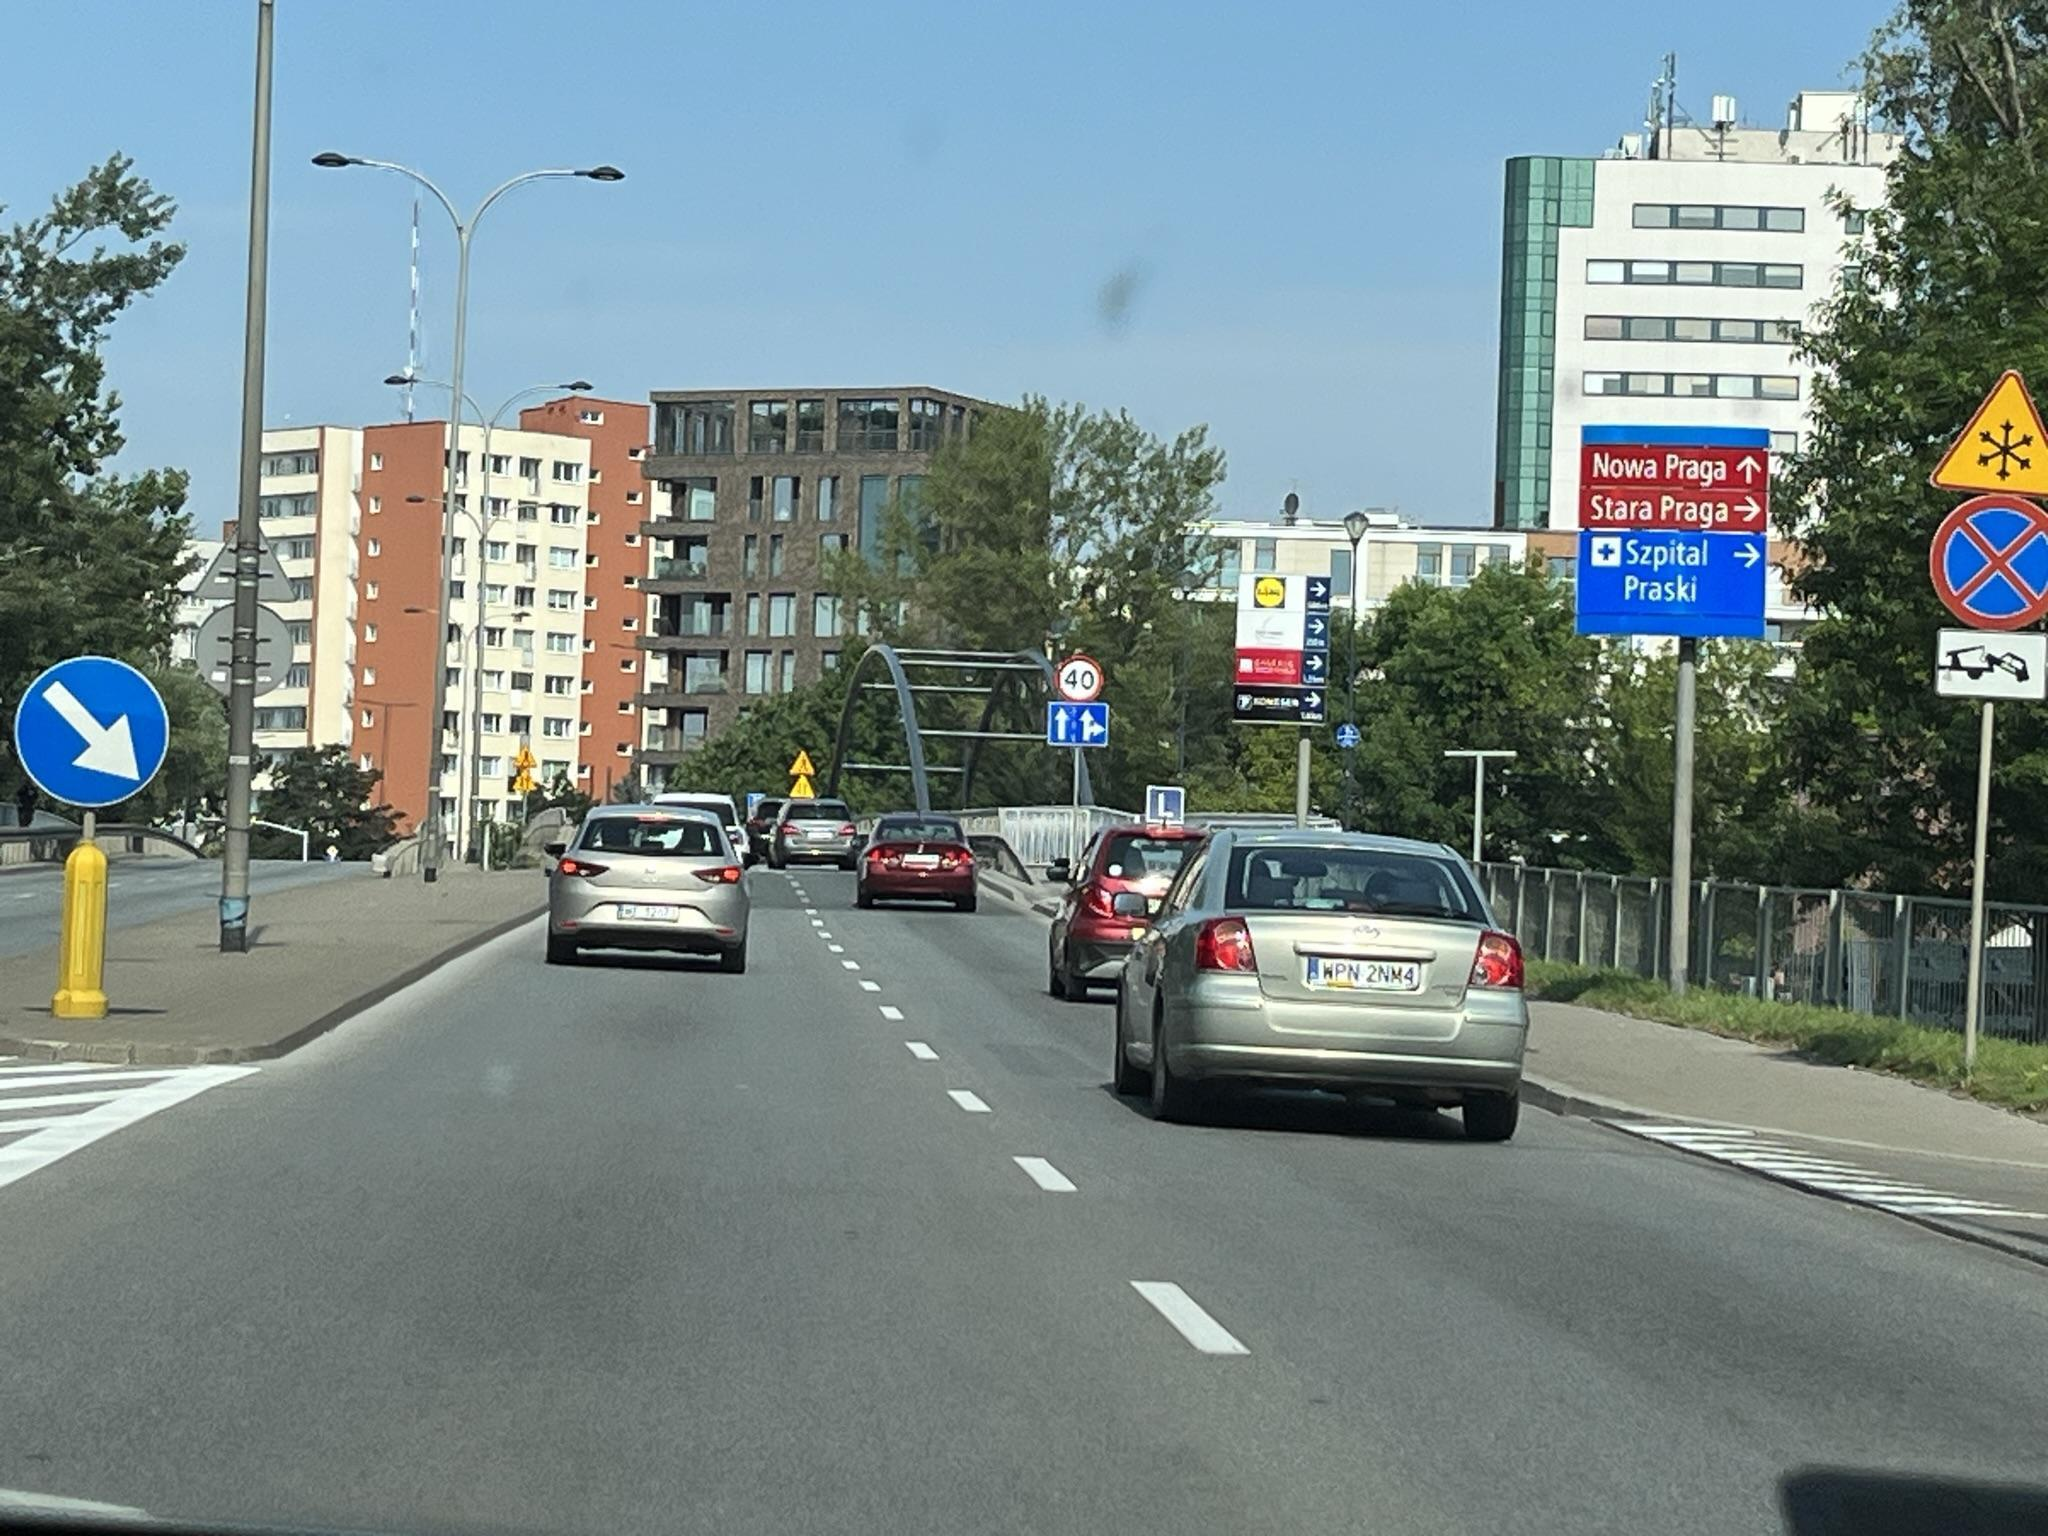mandatory: (11, 653, 173, 808)
other: (1940, 632, 2048, 699), (1048, 702, 1108, 745)
prohibitory: (1925, 494, 2048, 626), (1055, 655, 1105, 702)
warning: (1929, 368, 2048, 495), (789, 750, 816, 776), (513, 744, 537, 768), (790, 776, 816, 799), (513, 768, 537, 791)
